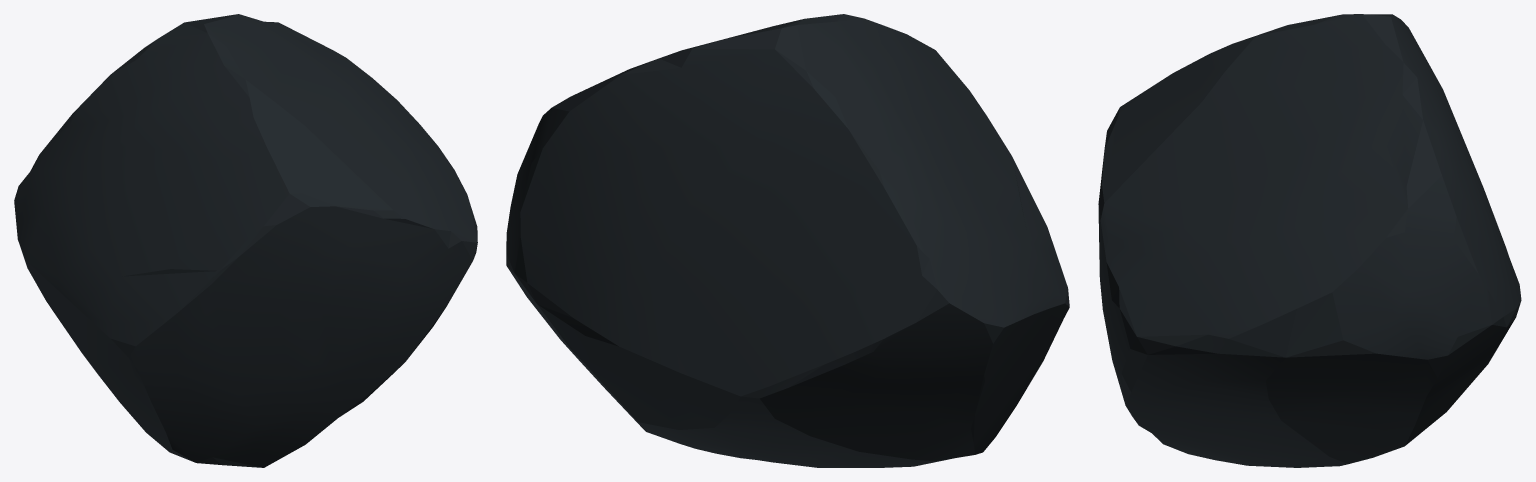
The model's file is Asteroid_m_14.FBX.
3 renders of one model, left to right at view 1: azimuth 30°, elevation 25°; view 2: azimuth 150°, elevation 25°; view 3: azimuth 270°, elevation 25°, orthographic. The views are drawn at different scales.
Visible parts, largest first — view 1: Asteroid_m_14; view 2: Asteroid_m_14; view 3: Asteroid_m_14.
Boxes of the visible parts, x1=… form: Asteroid_m_14: x1=14, y1=14, x2=477, y2=467; Asteroid_m_14: x1=506, y1=14, x2=1069, y2=467; Asteroid_m_14: x1=1098, y1=14, x2=1521, y2=467.
Bounding box in the file's own units: 906 × 857 × 731.
